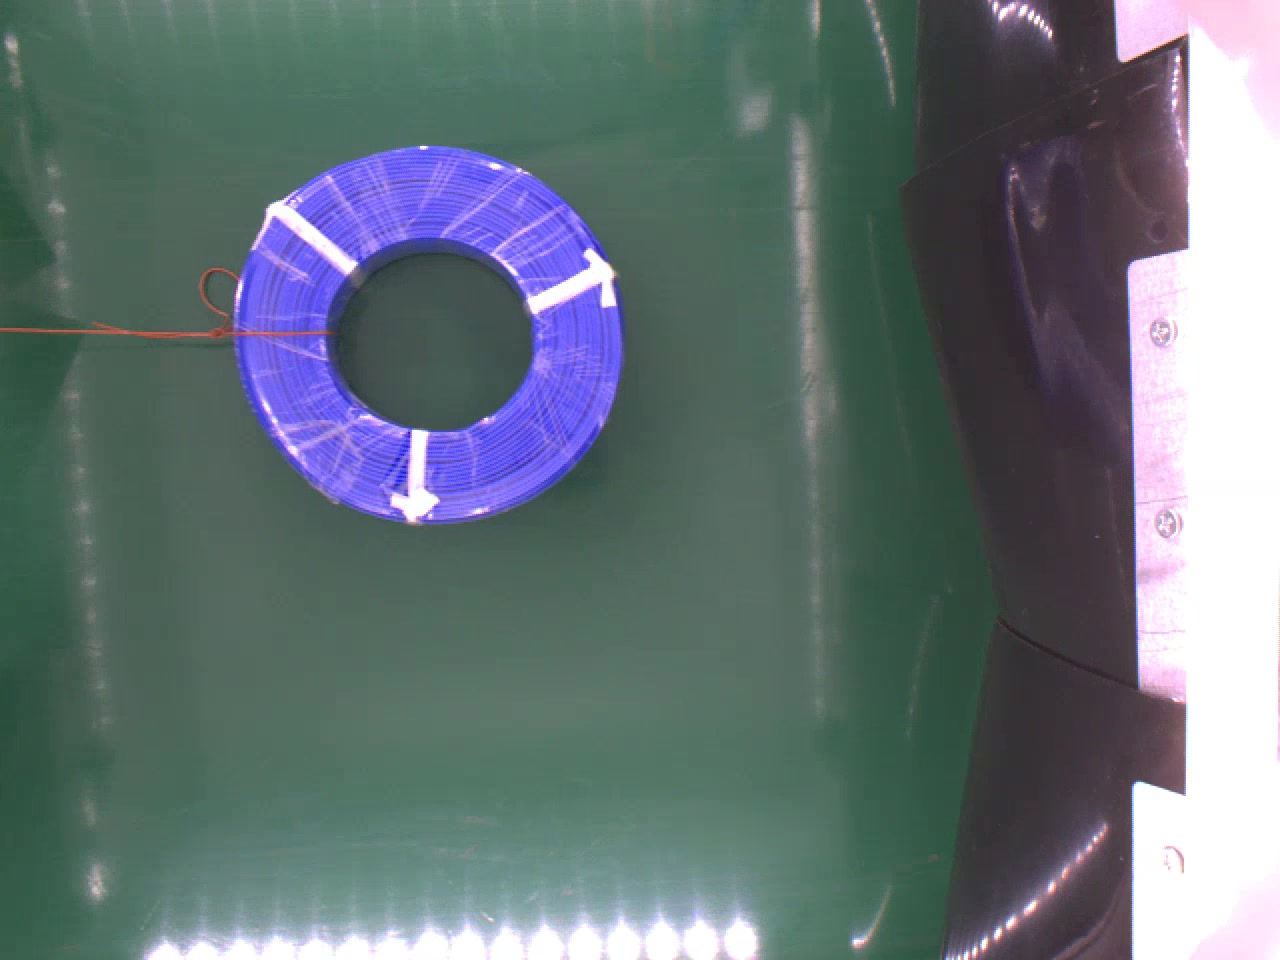blue: (233, 146, 625, 523)
